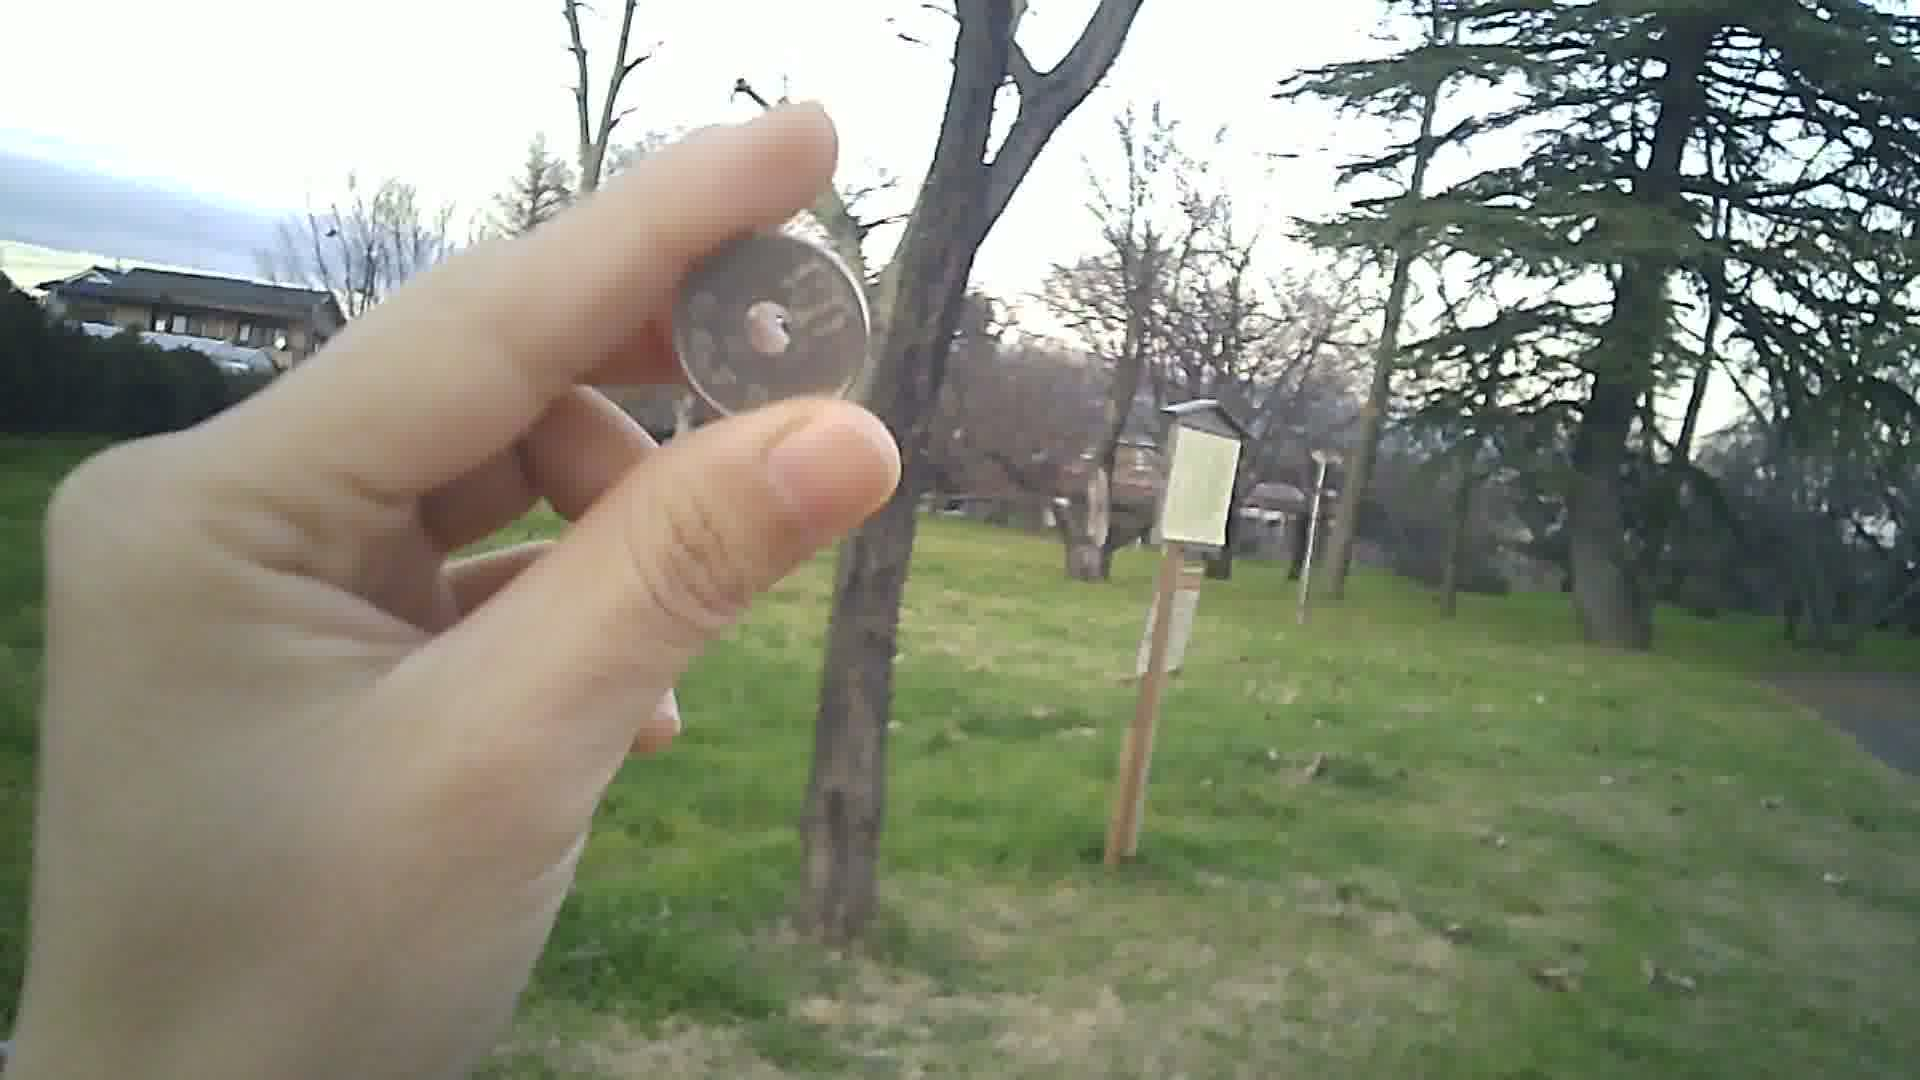50 Yen: (671, 227, 864, 422)
